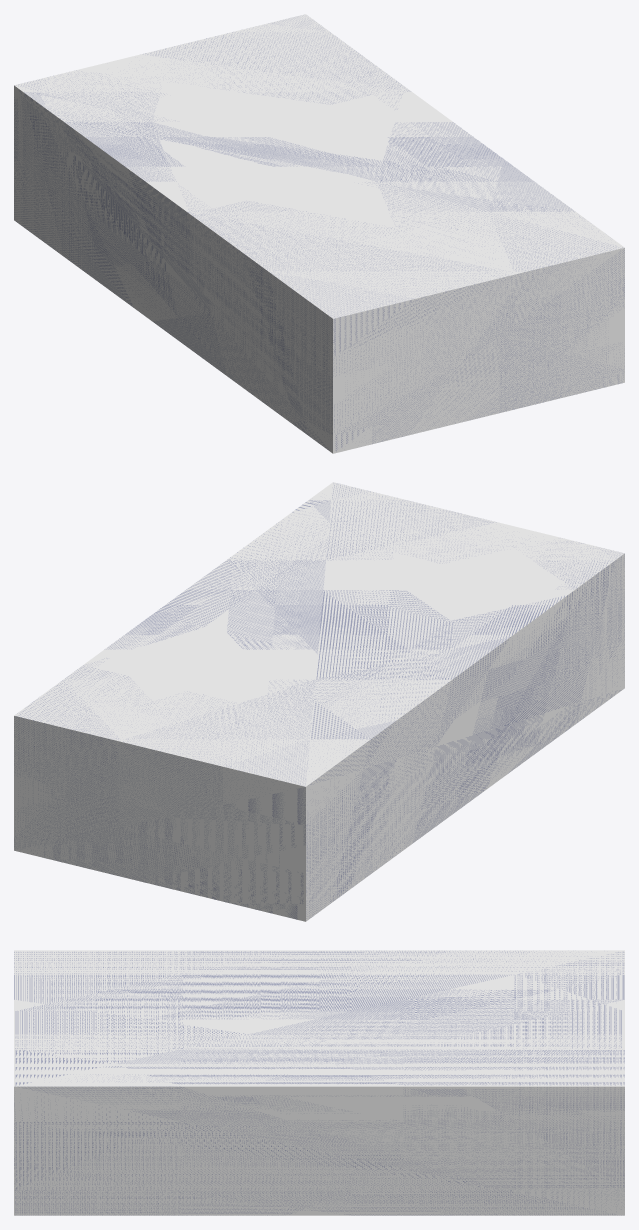
Rendered from 3d_virtuale.dae.
3 views of the same model, one above another, from view 1: azimuth 30°, elevation 25°; view 2: azimuth 150°, elevation 25°; view 3: azimuth 270°, elevation 25° (orthographic). The views are drawn at different scales.
Parts seen in each view (by area): view 1: SketchUp; view 2: SketchUp; view 3: SketchUp.
Boxes of the visible parts, <box> form: SketchUp: <box>14,14,624,453</box>; SketchUp: <box>14,482,624,921</box>; SketchUp: <box>14,950,624,1215</box>.
Size of the model in its own units: 497 by 942 by 220.
